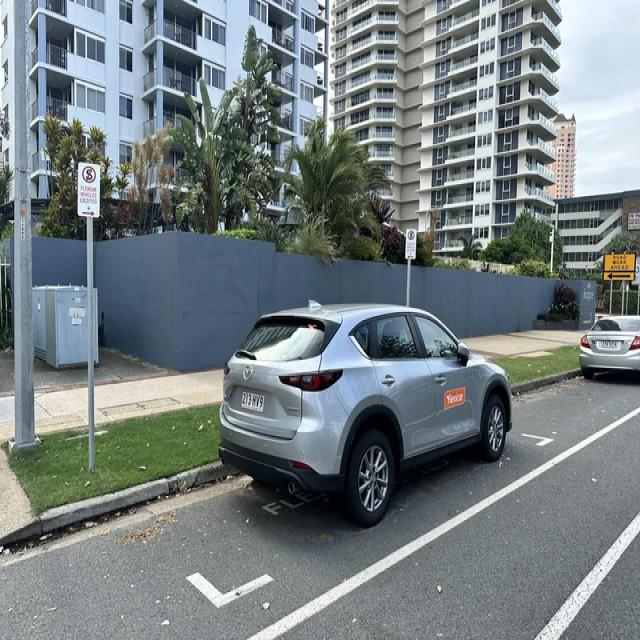car: (223, 270, 514, 513), (568, 309, 640, 384)
